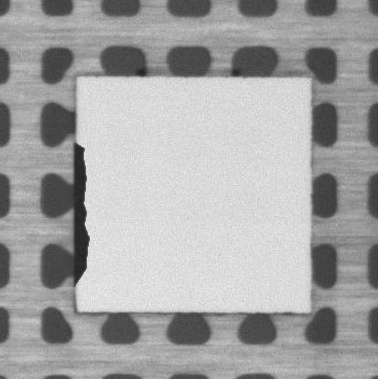DIE_BROKEN: (71, 138, 92, 284)
